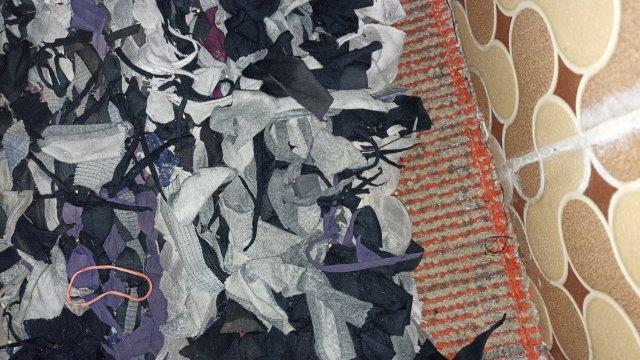karet: (67, 266, 153, 307)
